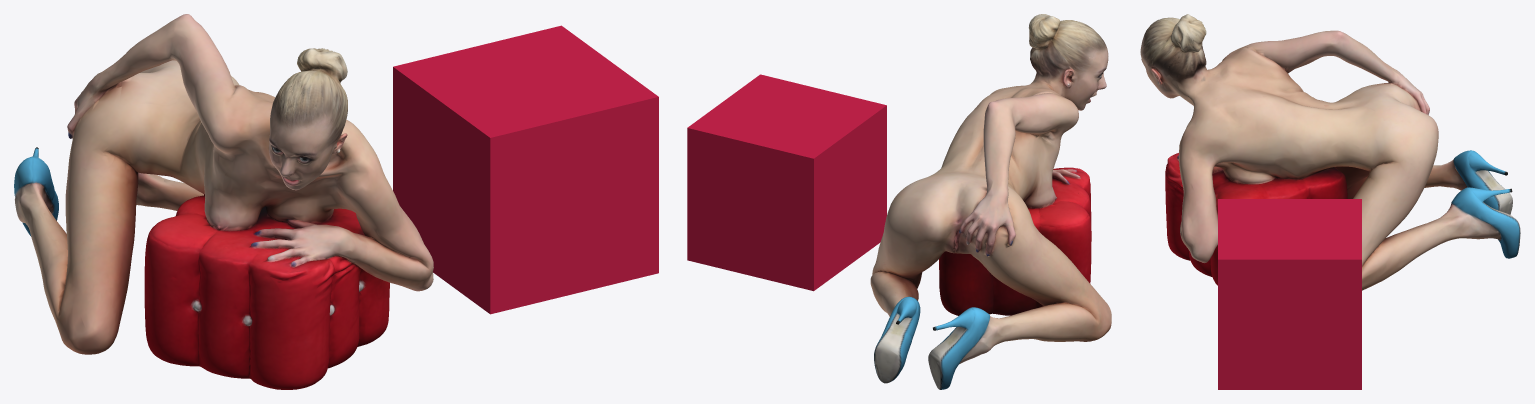
The model's file is dome00x2a.glb.
The picture shows the model from 3 angles, left to right: view 1: azimuth 30°, elevation 25°; view 2: azimuth 150°, elevation 25°; view 3: azimuth 270°, elevation 25°; orthographic projection. The views are drawn at different scales.
Parts seen in each view (by area): view 1: Atlas1, Cube; view 2: Atlas1, Cube; view 3: Atlas1, Cube.
Boxes of the visible parts, left/top/right/bottom form: Atlas1: left=14, top=14, right=433, bottom=389; Cube: left=393, top=25, right=658, bottom=314; Atlas1: left=870, top=14, right=1111, bottom=389; Cube: left=687, top=74, right=886, bottom=291; Atlas1: left=1140, top=14, right=1520, bottom=290; Cube: left=1218, top=199, right=1361, bottom=389.
Size of the model in its own units: 1.41 by 0.8377 by 1.19.
Materials: 2 (1 with a texture image).
